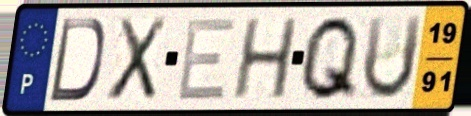D: (45, 16, 108, 104)
E: (173, 15, 239, 103)
H: (229, 15, 301, 102)
Q: (296, 12, 363, 103)
U: (359, 12, 426, 103)
X: (104, 14, 171, 104)
